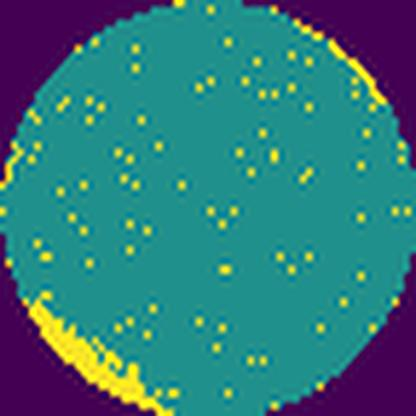Edge-Loc: (19, 290, 175, 416)
